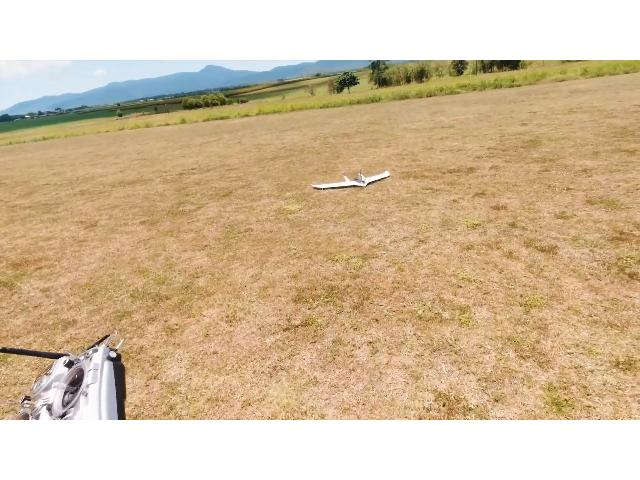Anti-Drone: (302, 161, 404, 202)
